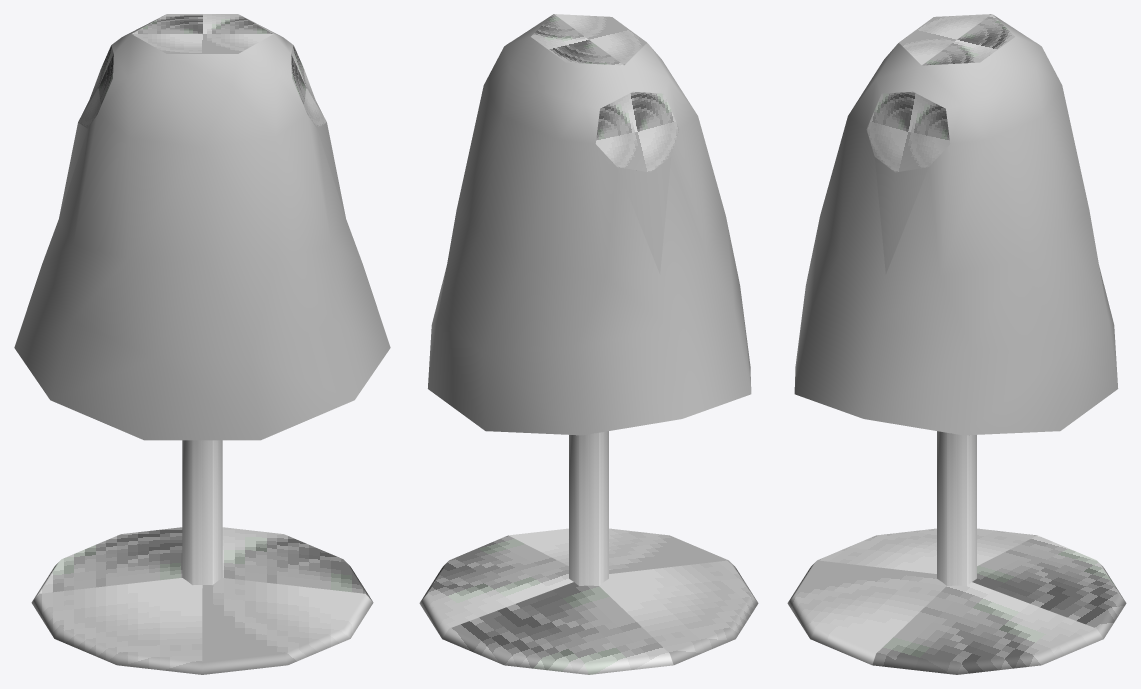
Rendered from mq_tops_shtN_grc.dae.
The picture shows the model from 3 angles, left to right: view 1: azimuth 30°, elevation 25°; view 2: azimuth 150°, elevation 25°; view 3: azimuth 270°, elevation 25°; orthographic projection.
Visible parts, largest first — view 1: mq_tops_shtN_grc; view 2: mq_tops_shtN_grc; view 3: mq_tops_shtN_grc.
Boxes of the visible parts, x1=… form: mq_tops_shtN_grc: x1=14, y1=14, x2=390, y2=674; mq_tops_shtN_grc: x1=419, y1=14, x2=758, y2=674; mq_tops_shtN_grc: x1=787, y1=14, x2=1126, y2=674.
Size of the model in its own units: 17.99 by 31.18 by 17.
Materials: 2 (2 with a texture image).
